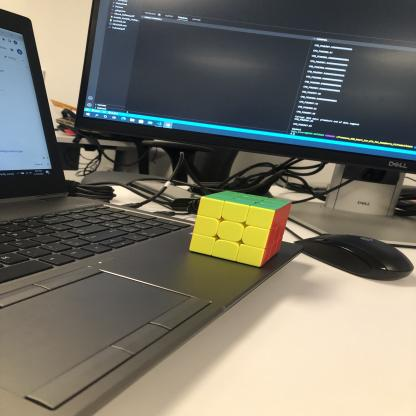SolvedCube: (189, 188, 291, 271)
